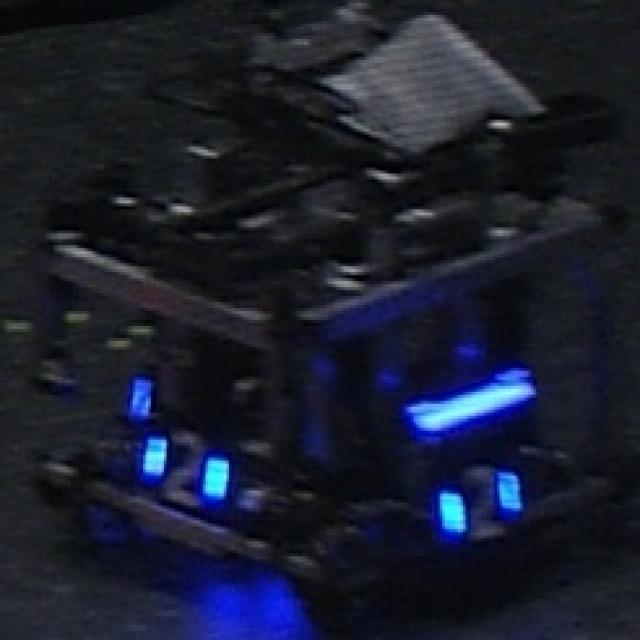B2: (131, 422, 238, 511), (432, 455, 528, 544)
